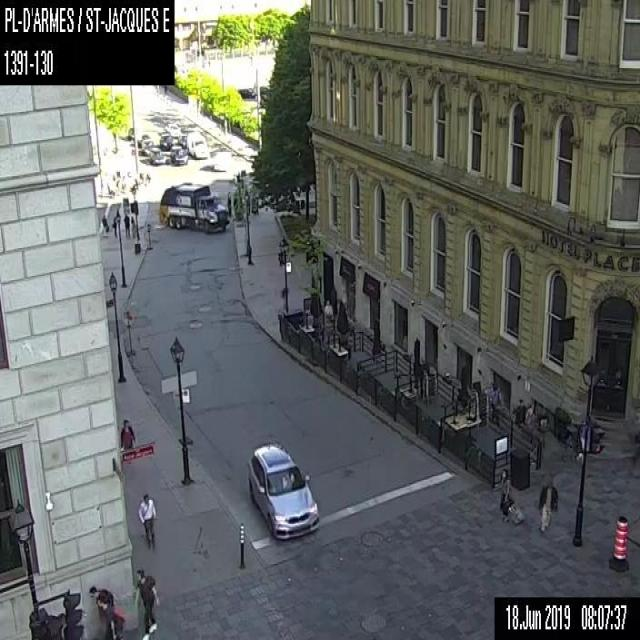construction: (607, 514, 629, 572)
pedestrian: (134, 567, 159, 639), (498, 467, 524, 525), (536, 475, 558, 533), (96, 594, 125, 638), (138, 489, 156, 552), (89, 585, 112, 617), (487, 380, 501, 428), (118, 416, 136, 449), (512, 394, 526, 427), (100, 211, 109, 234), (225, 190, 232, 217), (323, 298, 332, 319), (123, 212, 129, 238), (111, 215, 117, 237), (130, 216, 136, 237), (280, 284, 285, 309)
vehicle: (247, 440, 320, 540), (158, 181, 230, 234), (186, 132, 208, 159), (170, 146, 188, 164), (148, 148, 166, 164), (164, 122, 180, 136), (159, 133, 173, 148), (236, 87, 255, 97), (141, 140, 153, 155), (177, 134, 187, 147), (127, 125, 134, 139)
